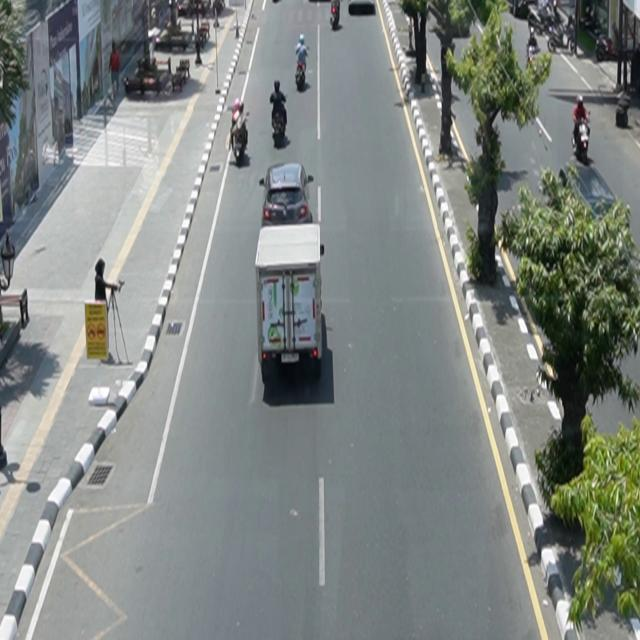car: (259, 163, 315, 227)
truck: (256, 223, 326, 383)
